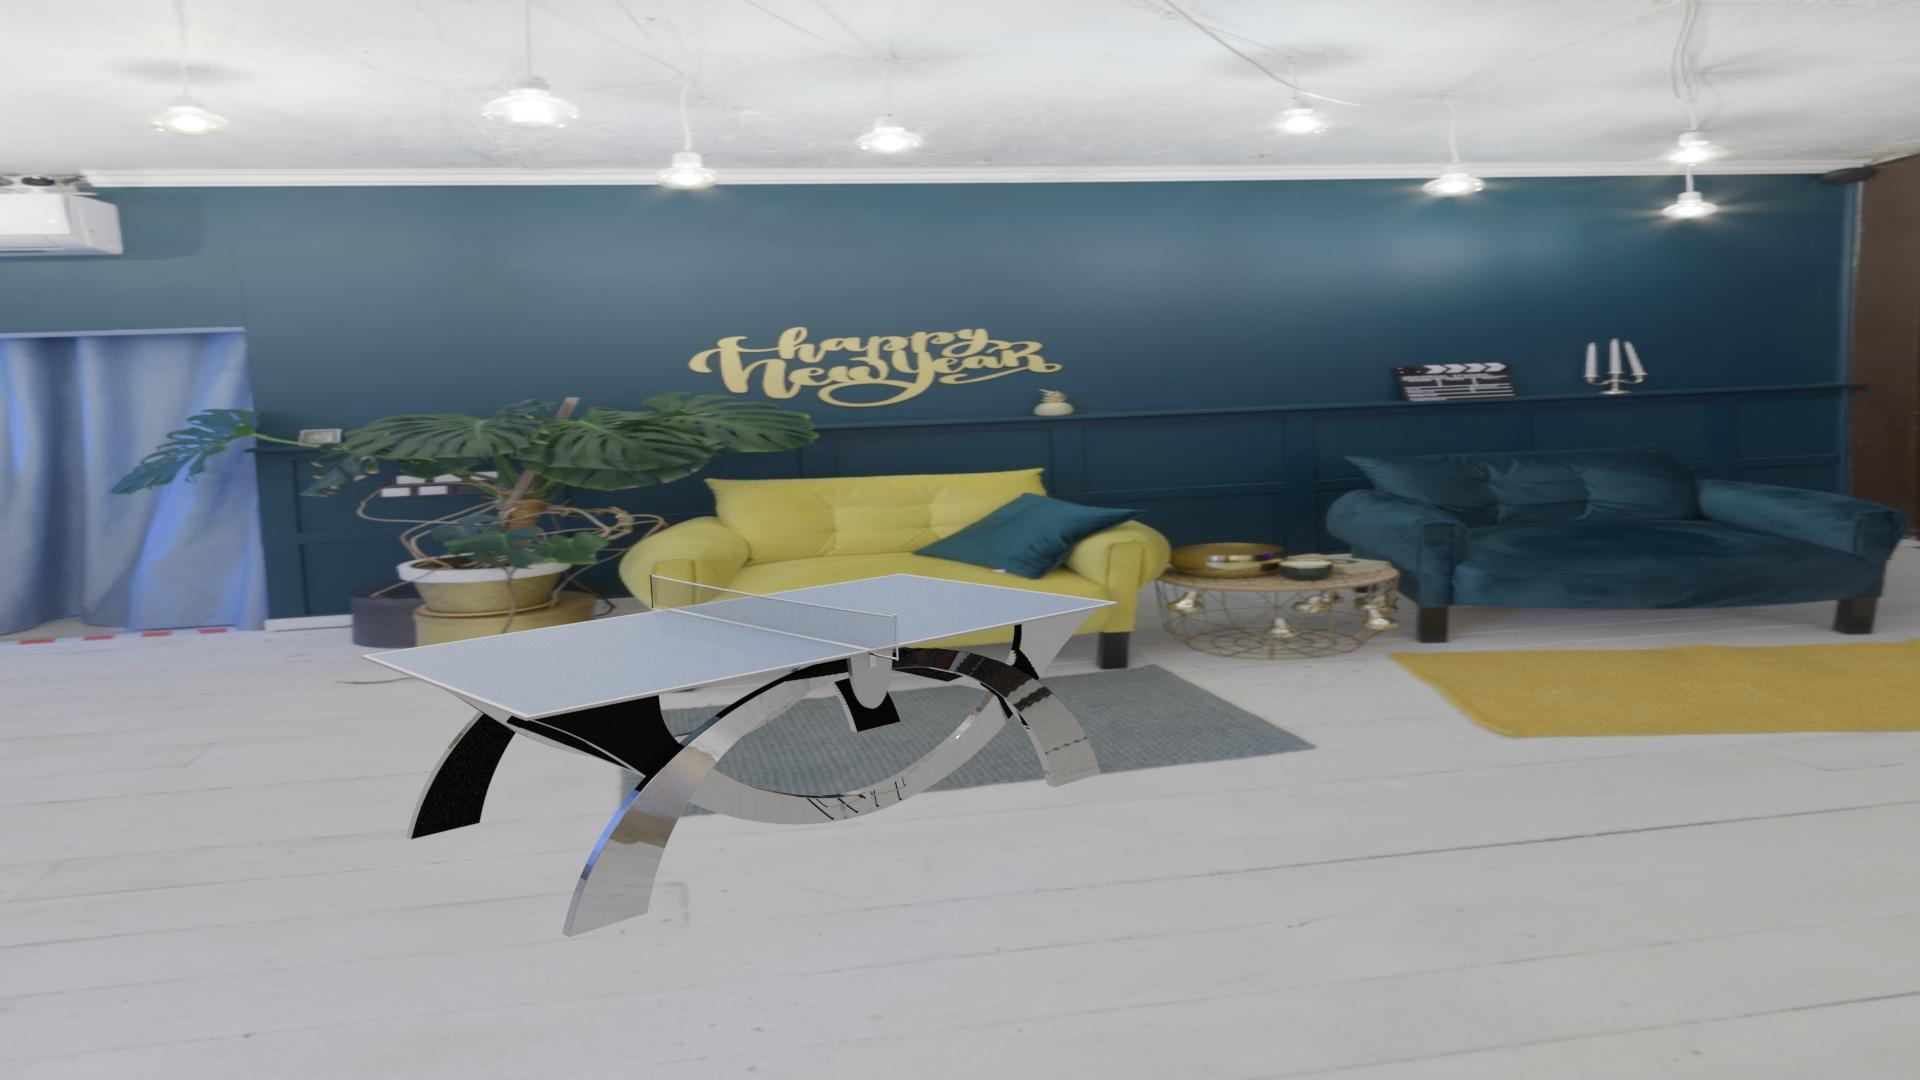table: (368, 575, 1112, 715)
